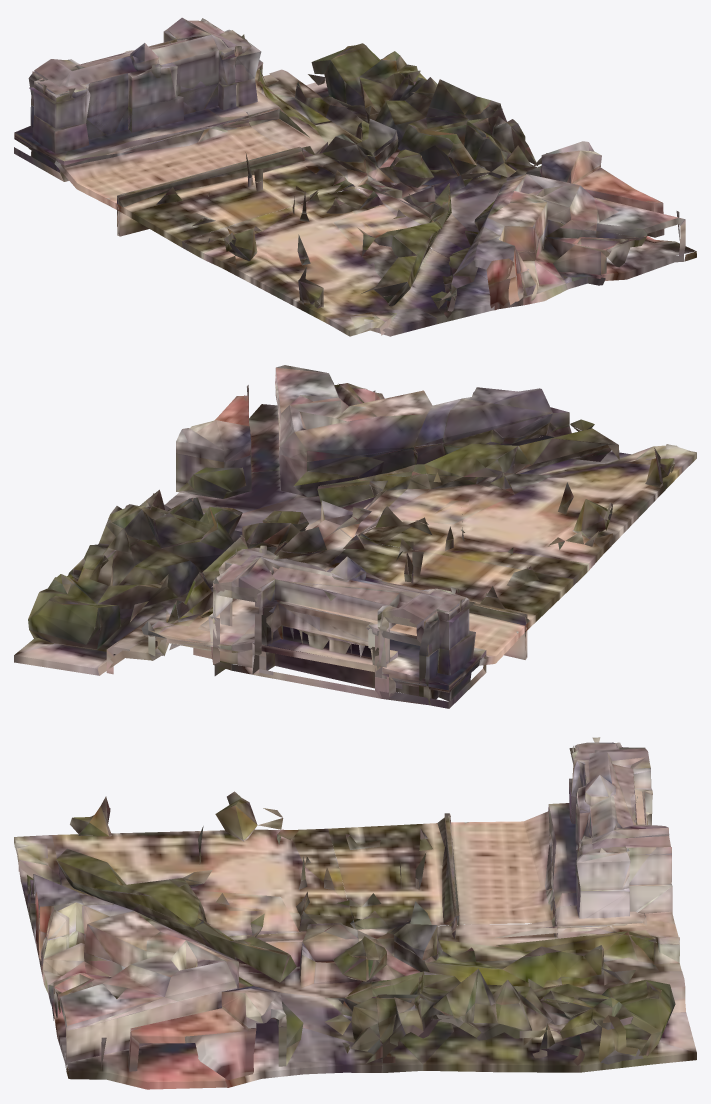
The picture shows the model from 3 angles, top to bottom: view 1: azimuth 30°, elevation 25°; view 2: azimuth 150°, elevation 25°; view 3: azimuth 270°, elevation 25°; orthographic projection. The views are drawn at different scales.
Parts seen in each view (by area): view 1: Mesh_0; view 2: Mesh_0; view 3: Mesh_0.
Boxes of the visible parts, left/top/right/bottom form: Mesh_0: left=14, top=17, right=696, bottom=336; Mesh_0: left=14, top=365, right=696, bottom=708; Mesh_0: left=14, top=737, right=696, bottom=1089.
Size of the model in its own units: 266 by 80.05 by 330.
Materials: 1 (1 with a texture image).
